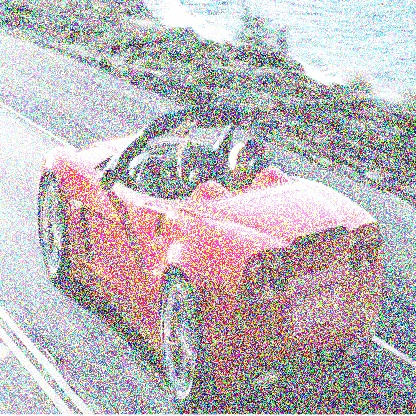Vehicle: (36, 110, 384, 408)
